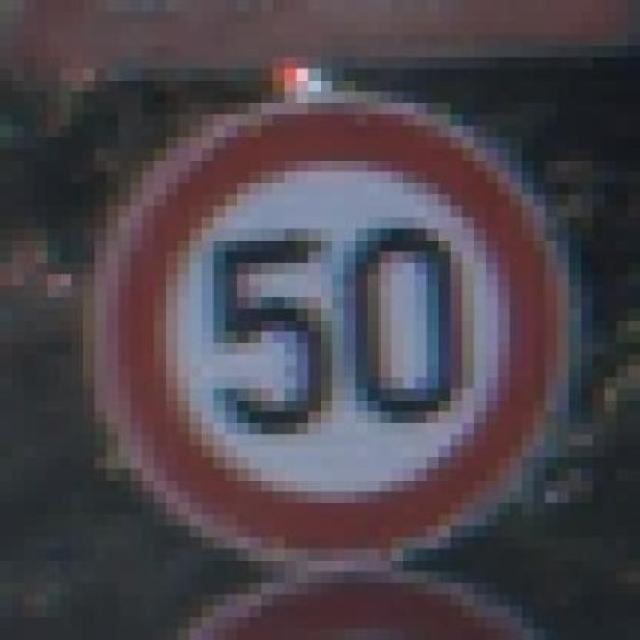forb_speed_over_50: (106, 108, 554, 562)
